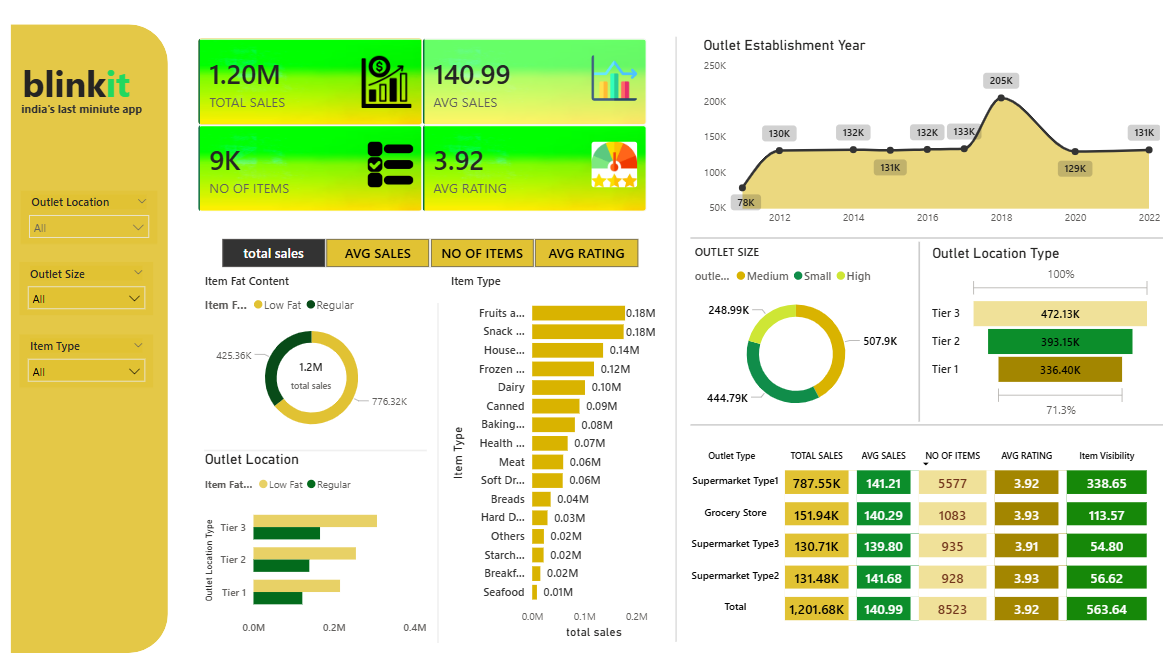

The page's visual inventory and layout, read from the dashboard file:
{"tool":"powerbi","page":{"name":"Page 1","canvas":[1400,800],"ordinal":0},"visuals":[{"type":"shape","box":[15,31.5,189.1,754.9],"z":0},{"type":"textbox","box":[24,67.5,162.1,67.5],"z":1000},{"type":"textbox","box":[15,118.6,171.1,31.5],"z":2000},{"type":"cardVisual","fields":{"Data":["BlinkIT Grocery Data.total sales","BlinkIT Grocery Data.AVG SALES","BlinkIT Grocery Data.NO OF ITEMS","BlinkIT Grocery Data.AVG RATING"]},"box":[223.6,31.5,573.3,243.1],"z":3000},{"type":"shape","box":[223.6,274.7,585.3,511.8],"z":4000},{"type":"donutChart","title":" Item Fat Content","fields":{"Y":["BlinkIT Grocery Data.total sales"],"Category":["BlinkIT Grocery Data.Item Fat Content"]},"box":[243.1,330.2,267.2,204.1],"z":5000},{"type":"slicer","fields":{"Values":["METRICS.METRICS"]},"box":[243.1,282.2,549.3,48],"z":6000},{"type":"card","fields":{"Values":["BlinkIT Grocery Data.total sales"]},"box":[336.2,421.7,79.5,60],"z":7000},{"type":"clusteredBarChart","title":"Outlet Location ","fields":{"Y":["BlinkIT Grocery Data.total sales"],"Series":["BlinkIT Grocery Data.Item Fat Content"],"Category":["BlinkIT Grocery Data.Outlet Location Type"]},"box":[243.1,543.3,276.2,231.1],"z":8000},{"type":"shape","box":[247.6,525.3,267.2,36],"z":9000},{"type":"shape","box":[511.8,366.2,33,408.2],"z":10000},{"type":"clusteredBarChart","title":" Item Type","fields":{"Y":["BlinkIT Grocery Data.total sales"],"Category":["BlinkIT Grocery Data.Item Type"]},"box":[538.8,330.2,270.2,444.3],"z":11000},{"type":"shape","box":[797,46.5,34.5,726.4],"z":12000},{"type":"shape","box":[831.5,46.5,568.8,726.4],"z":13000},{"type":"lineChart","title":" Outlet Establishment Year","fields":{"Y":["BlinkIT Grocery Data.total sales"],"Category":["BlinkIT Grocery Data.Outlet Establishment Year"]},"box":[842,46.5,558.3,235.6],"z":14000},{"type":"shape","box":[831.5,274.7,568.8,27],"z":15000},{"type":"donutChart","title":" OUTLET SIZE","fields":{"Y":["BlinkIT Grocery Data.total sales"],"Category":["BlinkIT Grocery Data.Outlet Size"]},"box":[831.5,295.7,253.6,216.1],"z":16000},{"type":"shape","box":[1095.6,292.7,21,216.1],"z":16001},{"type":"funnel","title":" Outlet Location Type","fields":{"Y":["Sum(BlinkIT Grocery Data.Sales)"],"Category":["BlinkIT Grocery Data.Outlet Location Type"]},"box":[1116.6,295.7,273.2,213.1],"z":16002},{"type":"shape","box":[831.5,499.8,568.8,25.5],"z":16004},{"type":"pivotTable","fields":{"Rows":["BlinkIT Grocery Data.Outlet Type"],"Values":["BlinkIT Grocery Data.total sales","BlinkIT Grocery Data.AVG SALES","BlinkIT Grocery Data.NO OF ITEMS","BlinkIT Grocery Data.AVG RATING","Sum(BlinkIT Grocery Data.Item Visibility)"]},"box":[821.9,534.4,568.8,253.1],"z":16005},{"type":"slicer","fields":{"Values":["BlinkIT Grocery Data.Outlet Location Type"]},"box":[26.6,231.2,164.1,64.1],"z":16006},{"type":"slicer","fields":{"Values":["BlinkIT Grocery Data.Outlet Size"]},"box":[25,317.2,160.9,64.1],"z":16007},{"type":"slicer","fields":{"Values":["BlinkIT Grocery Data.Item Type"]},"box":[25,403.1,160.9,64.1],"z":16008}]}

Visuals, with their boxes in screenshot pixels (x1, y1, x2, y2), scaled from the page's 1400x800 canvas onto the 1163x662 screenshot:
shape: box=[12, 26, 170, 651]
textbox: box=[20, 56, 155, 112]
textbox: box=[12, 98, 155, 124]
cardVisual - BlinkIT Grocery Data.total sales x BlinkIT Grocery Data.AVG SALES: box=[186, 26, 662, 227]
shape: box=[186, 227, 672, 651]
" Item Fat Content" donutChart: box=[202, 273, 424, 442]
slicer - METRICS.METRICS: box=[202, 234, 658, 273]
card - BlinkIT Grocery Data.total sales: box=[279, 349, 345, 399]
"Outlet Location " clusteredBarChart: box=[202, 450, 431, 641]
shape: box=[206, 435, 428, 464]
shape: box=[425, 303, 453, 641]
" Item Type" clusteredBarChart: box=[448, 273, 672, 641]
shape: box=[662, 38, 691, 640]
shape: box=[691, 38, 1162, 640]
" Outlet Establishment Year" lineChart: box=[699, 38, 1162, 233]
shape: box=[691, 227, 1162, 250]
" OUTLET SIZE" donutChart: box=[691, 245, 901, 424]
shape: box=[910, 242, 928, 421]
" Outlet Location Type" funnel: box=[928, 245, 1155, 421]
shape: box=[691, 414, 1162, 435]
pivotTable - BlinkIT Grocery Data.Outlet Type x BlinkIT Grocery Data.total sales: box=[683, 442, 1155, 652]
slicer - BlinkIT Grocery Data.Outlet Location Type: box=[22, 191, 158, 244]
slicer - BlinkIT Grocery Data.Outlet Size: box=[21, 262, 154, 316]
slicer - BlinkIT Grocery Data.Item Type: box=[21, 334, 154, 387]
